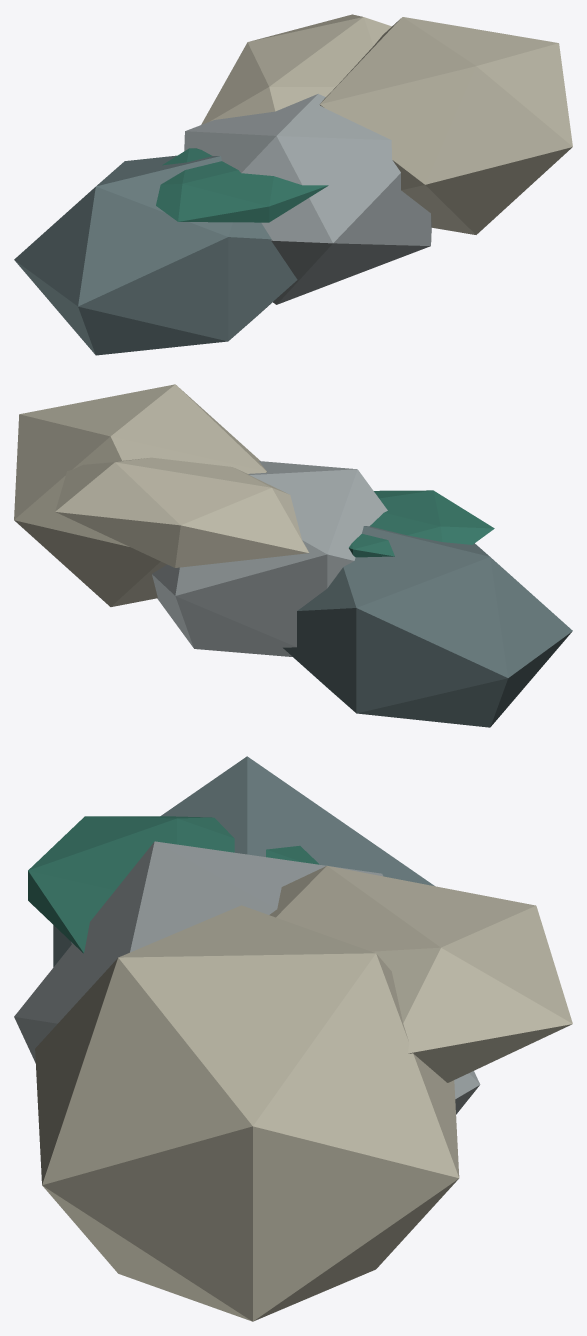
File: rock.glb
3 views of the same model, one above another, from view 1: azimuth 30°, elevation 25°; view 2: azimuth 150°, elevation 25°; view 3: azimuth 270°, elevation 25° (orthographic). The views are drawn at different scales.
Bounding box in the file's own units: 1.58 × 0.6776 × 0.7973.
